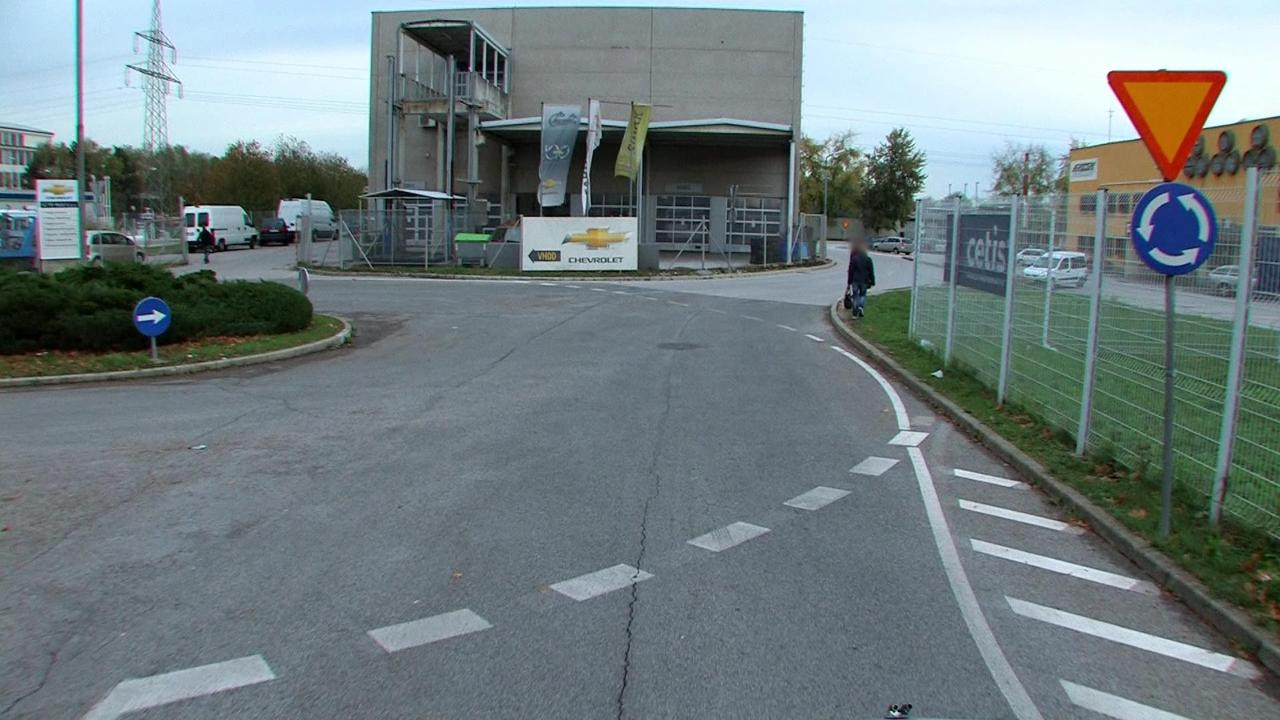Round: (1134, 182, 1220, 276), (135, 295, 173, 341)
Triangle: (1109, 68, 1231, 180)
